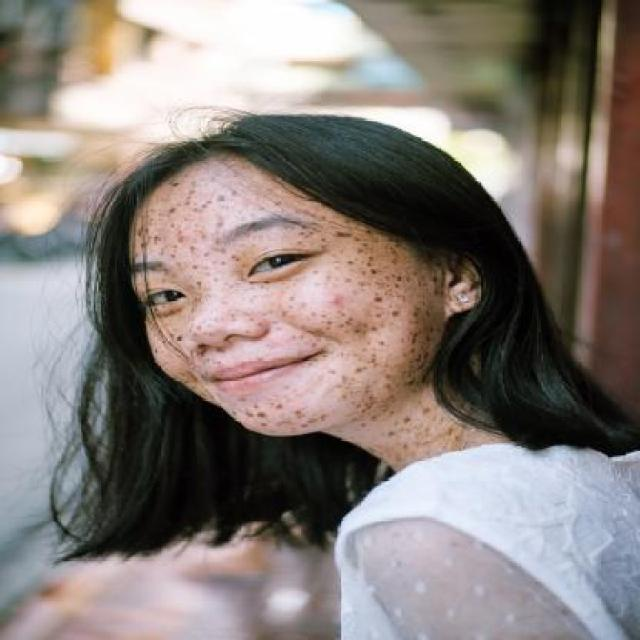closed-mouth: (196, 350, 324, 402)
